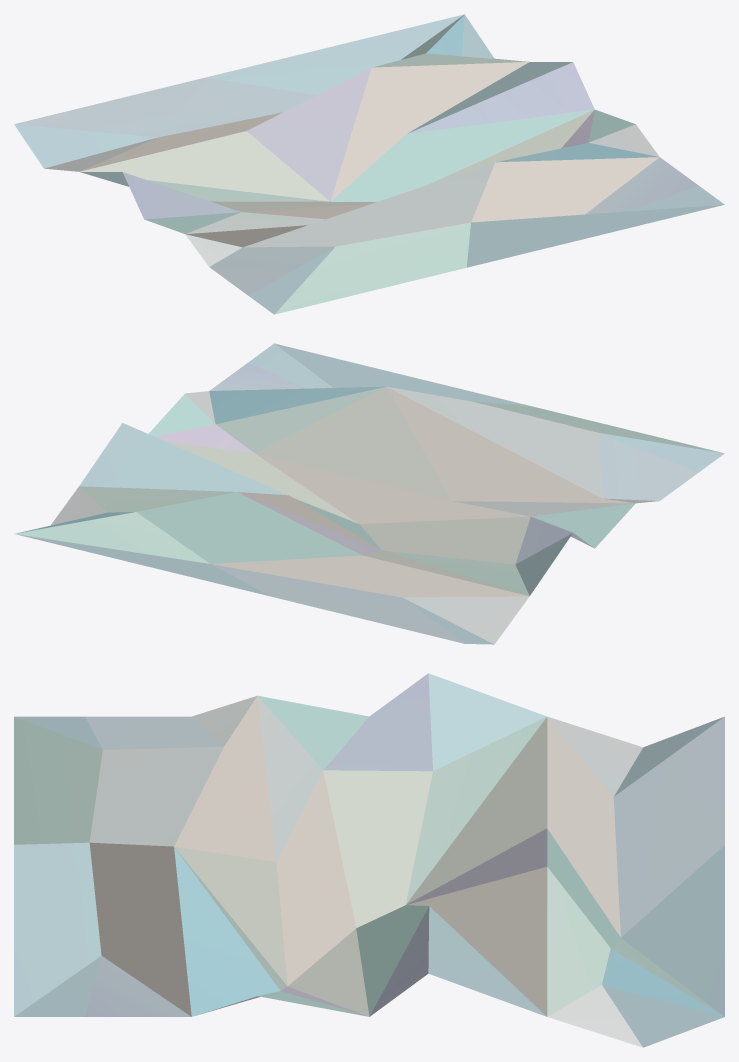
The model's file is sm_ground_ice_4.fbx.
The picture shows the model from 3 angles, top to bottom: view 1: azimuth 30°, elevation 25°; view 2: azimuth 150°, elevation 25°; view 3: azimuth 270°, elevation 25°; orthographic projection. The views are drawn at different scales.
Visible parts, largest first — view 1: sm_ground_ice_4; view 2: sm_ground_ice_4; view 3: sm_ground_ice_4.
Part boxes in pixels (x1,y1,x2,y2): sm_ground_ice_4: (14,14,724,314); sm_ground_ice_4: (14,343,724,644); sm_ground_ice_4: (14,673,724,1047).
Size of the model in its own units: 34.79 by 200 by 200.
